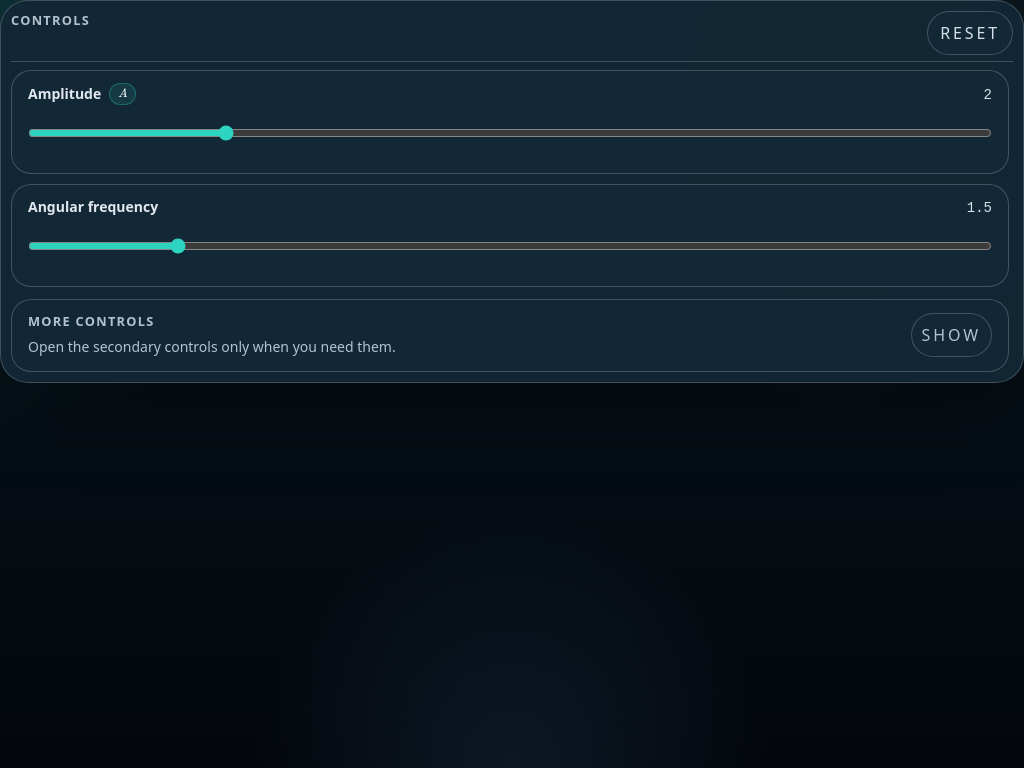
Test: ControlPanel › keeps authored primary controls visible, leaves passive cues collapsed, and collapses advanced tools again on reset
Expected: the element with test id "control-panel-more-tools" is shown, x1=11 y1=299 x2=1009 y2=372
Expected: the slider labelled "Phase" is not shown
Step 1. Click the button with aria-label "More controls" → (951, 335), box x1=911 y1=313 x2=992 y2=357
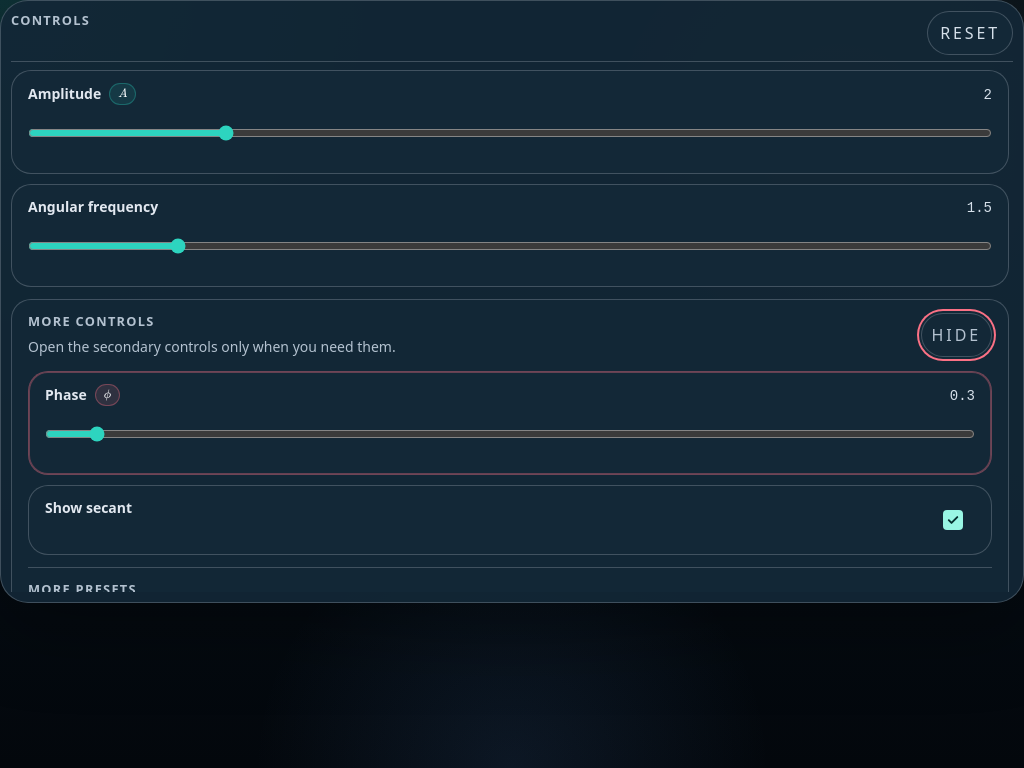
Expected: the button with aria-label "More controls" is expanded, x1=921 y1=313 x2=992 y2=357
Expected: the slider labelled "Phase" is shown, x1=45 y1=412 x2=975 y2=456
Step 2. Click the button "Reset" → (970, 33), box x1=927 y1=11 x2=1013 y2=55
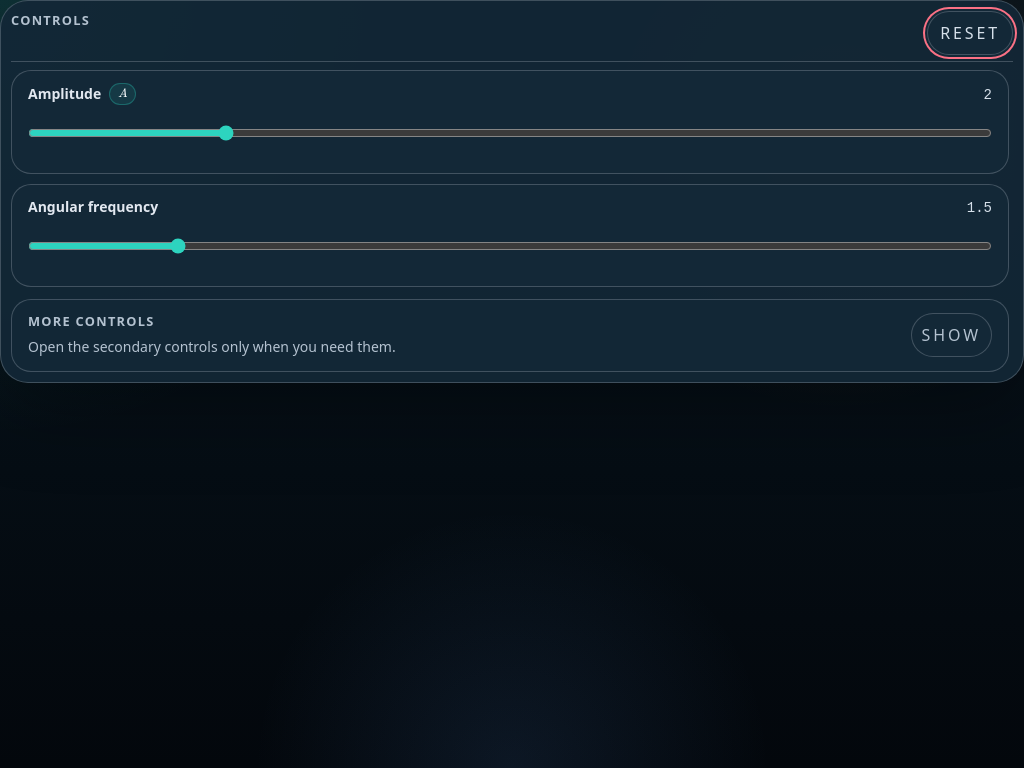
Expected: the button with aria-label "More controls" is collapsed, x1=911 y1=313 x2=992 y2=357
